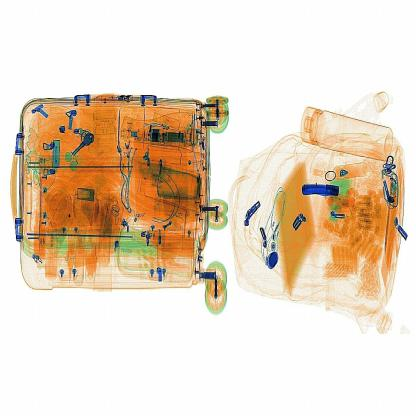knife: (296, 177, 342, 205)
